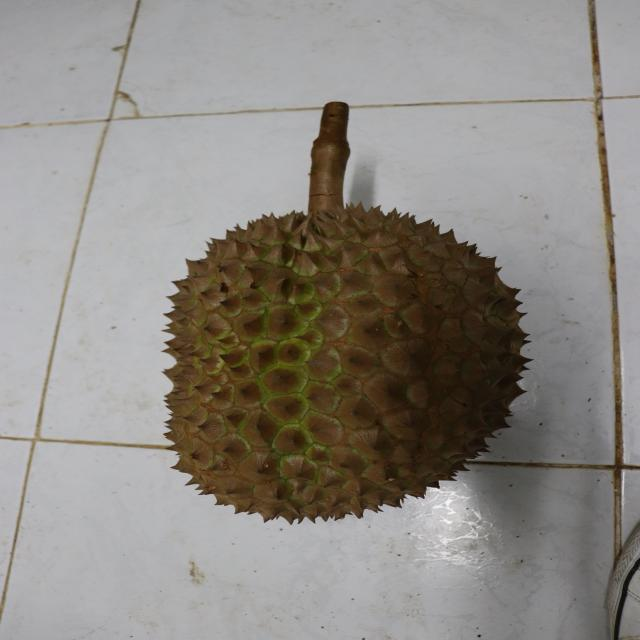mature: (155, 204, 529, 523)
